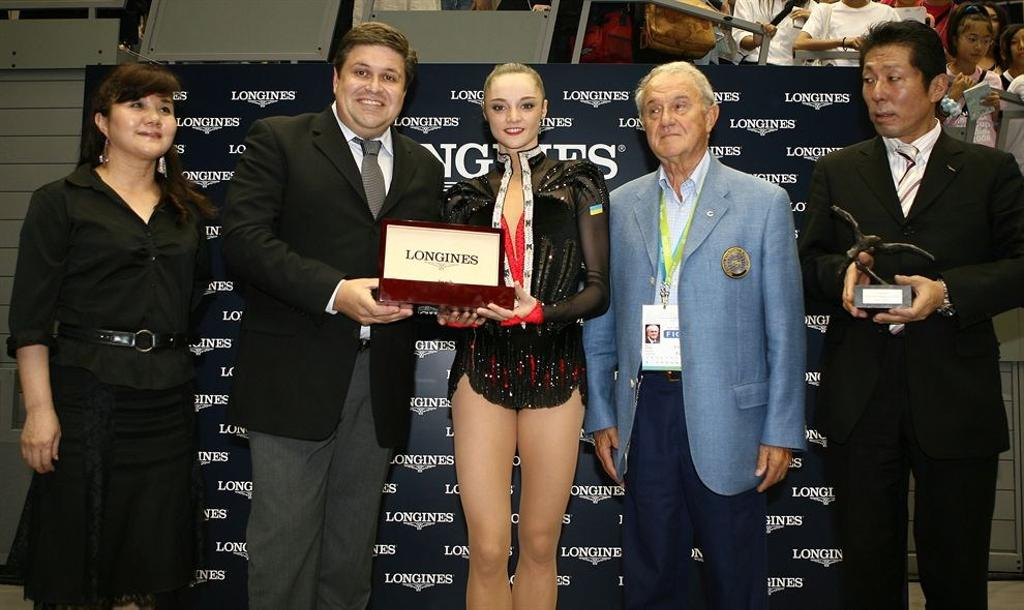face: (862, 52, 929, 136), (339, 48, 404, 124), (108, 85, 177, 156), (643, 81, 704, 155), (486, 79, 541, 147), (957, 24, 990, 62), (978, 9, 999, 38), (1009, 30, 1024, 63)
